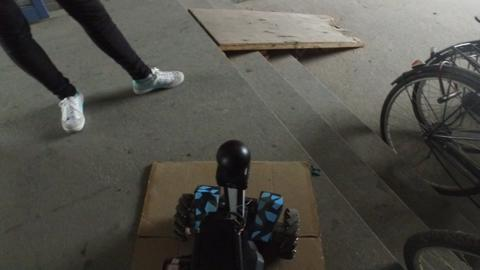chariot: (162, 138, 301, 267)
